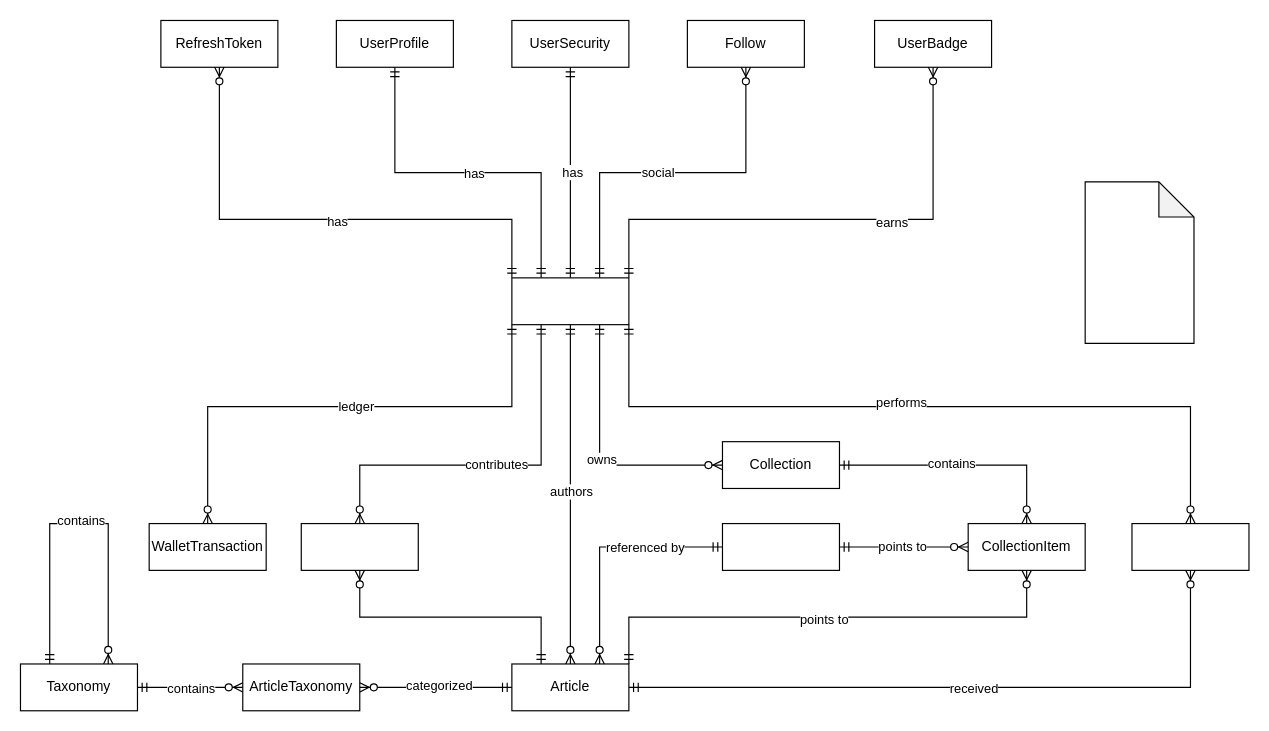
The diagram is 1269 pixels wide and 731 high, and some of its shapes have lost their labels. Here are the shapes that lost their labels. From the top down, the centre of each, then its label:
point 1139,262: Rule: If the Context is PLACE, only one Article is allowed.
point 570,301: Users
point 359,546: Suggestion
point 780,546: Context
point 1190,546: Interaction
